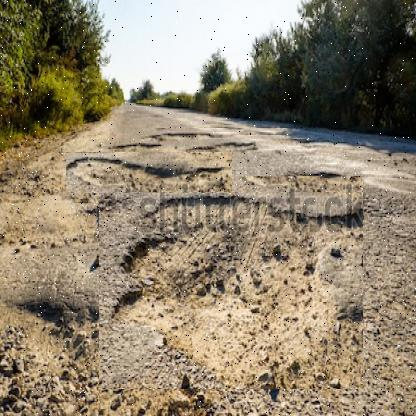pothole: (98, 176, 363, 390), (65, 152, 232, 194)
